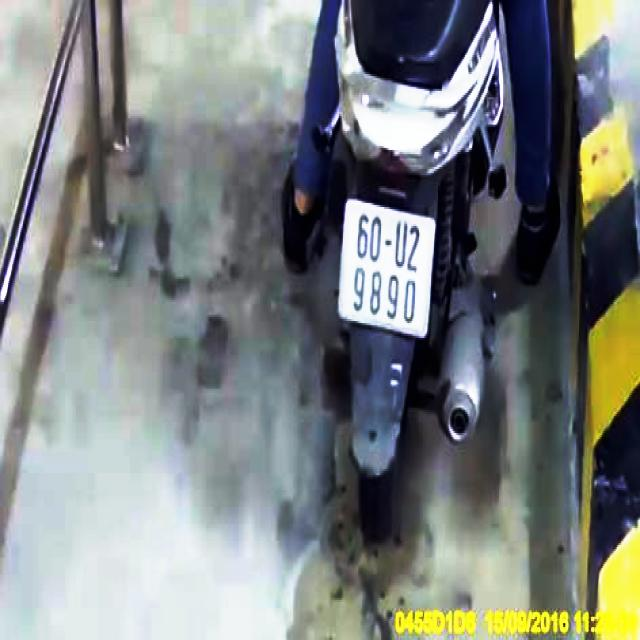license_plate: (338, 202, 440, 336)
